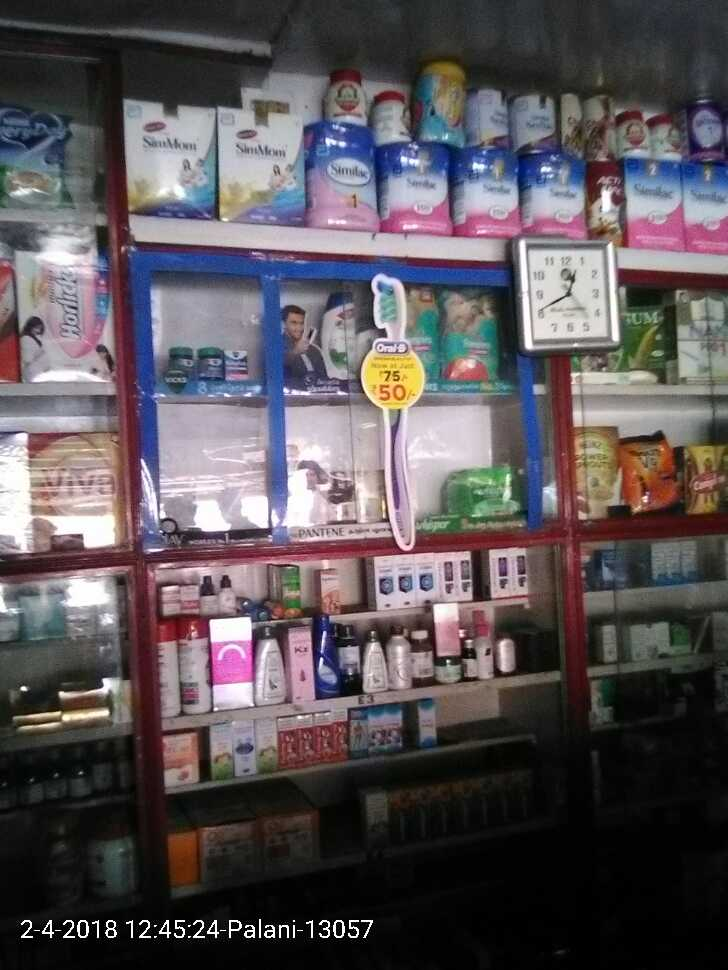vicks: (175, 347, 252, 378)
